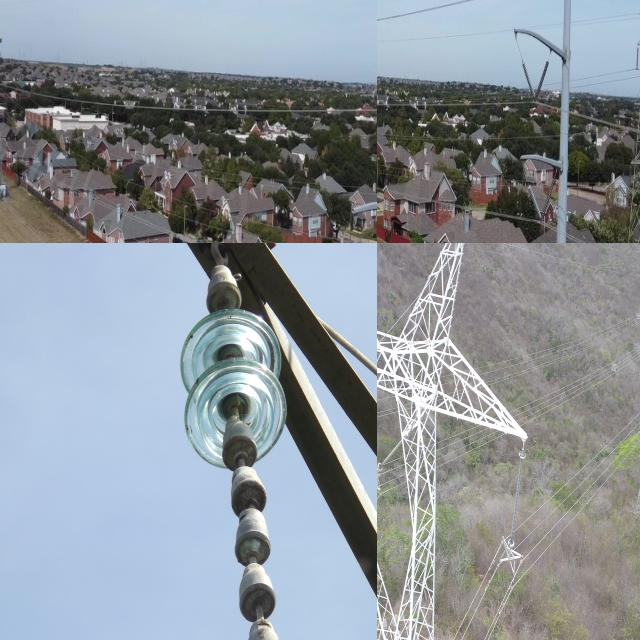杆塔: (377, 243, 526, 640), (0, 23, 9, 200)
正常电缆: (528, 429, 640, 557), (529, 419, 640, 538), (530, 450, 633, 575), (534, 404, 640, 517), (477, 243, 635, 284), (448, 544, 502, 640)
正常绝缘子: (176, 243, 296, 640), (499, 442, 533, 563), (526, 177, 558, 226), (521, 59, 551, 106), (633, 41, 640, 72), (636, 290, 640, 319)
绝缘子破损: (239, 580, 276, 636), (234, 527, 272, 579), (231, 482, 269, 524), (223, 432, 258, 476)
